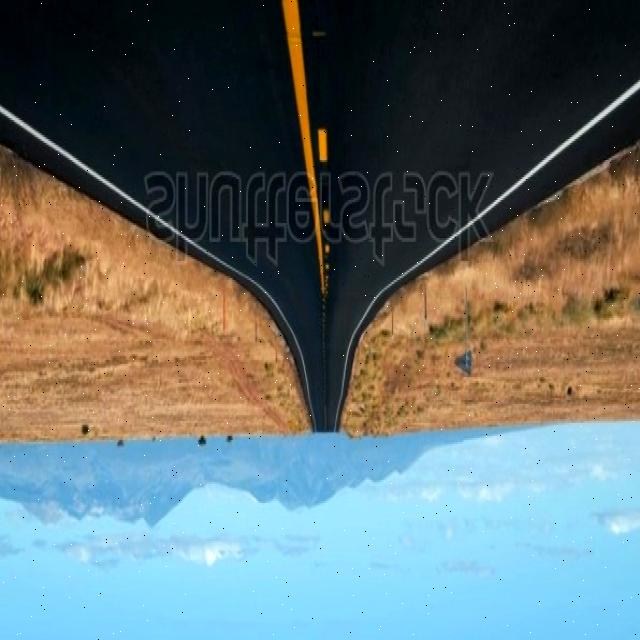lane: (281, 2, 324, 299), (314, 171, 329, 383), (314, 130, 328, 168)
road: (0, 4, 639, 432)
